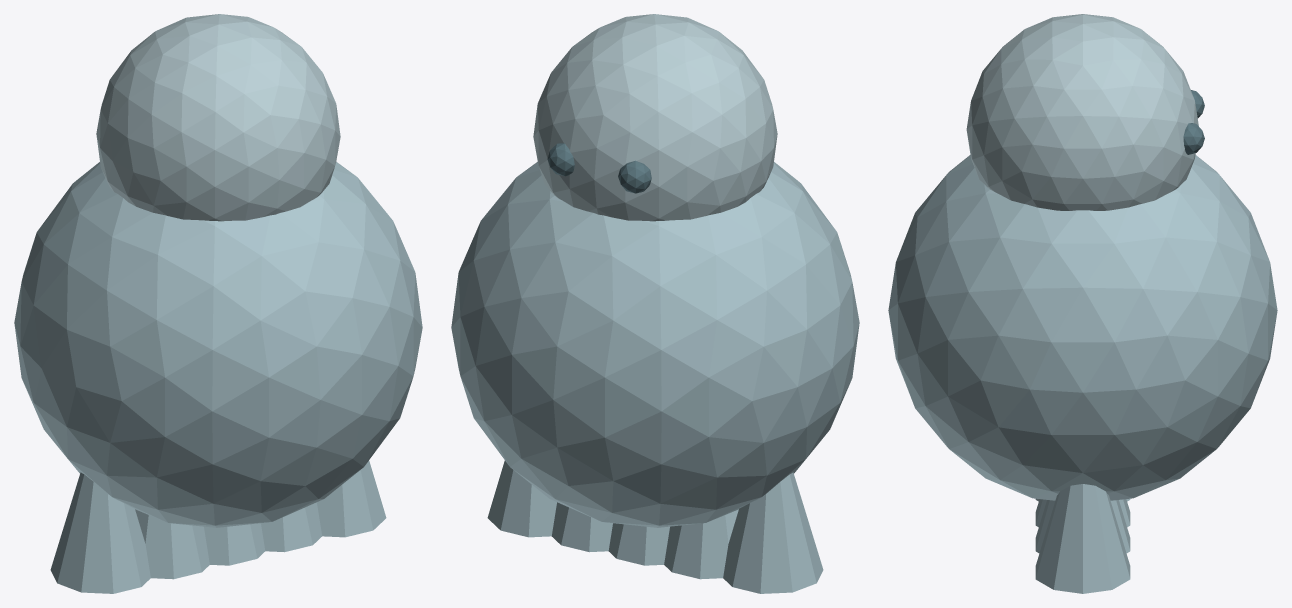
File: ghost.glb
3 renders of one model, left to right at view 1: azimuth 30°, elevation 25°; view 2: azimuth 150°, elevation 25°; view 3: azimuth 270°, elevation 25°, orthographic. The views are drawn at different scales.
Parts seen in each view (by area): view 1: Body, Head, Tail0, Tail1, Tail4, Tail2, Tail3; view 2: Body, Head, Tail0, Tail1, Tail4, Tail2, Tail3, EyeL, EyeR; view 3: Body, Head, Tail4, Tail3, EyeR.
Boxes of the visible parts, x1=… form: Body: x1=14, y1=162, x2=422, y2=527; Head: x1=96, y1=14, x2=340, y2=221; Tail0: x1=50, y1=472, x2=150, y2=593; Tail1: x1=135, y1=509, x2=209, y2=579; Tail4: x1=317, y1=460, x2=386, y2=537; Tail2: x1=204, y1=523, x2=265, y2=565; Tail3: x1=261, y1=502, x2=322, y2=552; Body: x1=451, y1=162, x2=859, y2=527; Head: x1=533, y1=14, x2=777, y2=221; Tail0: x1=723, y1=472, x2=823, y2=593; Tail1: x1=664, y1=509, x2=738, y2=579; Tail4: x1=487, y1=460, x2=556, y2=537; Tail2: x1=608, y1=523, x2=669, y2=565; Tail3: x1=551, y1=502, x2=612, y2=552; EyeL: x1=618, y1=160, x2=651, y2=193; EyeR: x1=547, y1=143, x2=574, y2=176; Body: x1=888, y1=155, x2=1277, y2=500; Head: x1=966, y1=14, x2=1198, y2=210; Tail4: x1=1035, y1=484, x2=1130, y2=593; Tail3: x1=1035, y1=500, x2=1130, y2=553; EyeR: x1=1183, y1=123, x2=1204, y2=154.
Size of the model in its own units: 1.4 by 1.97 by 1.4.
